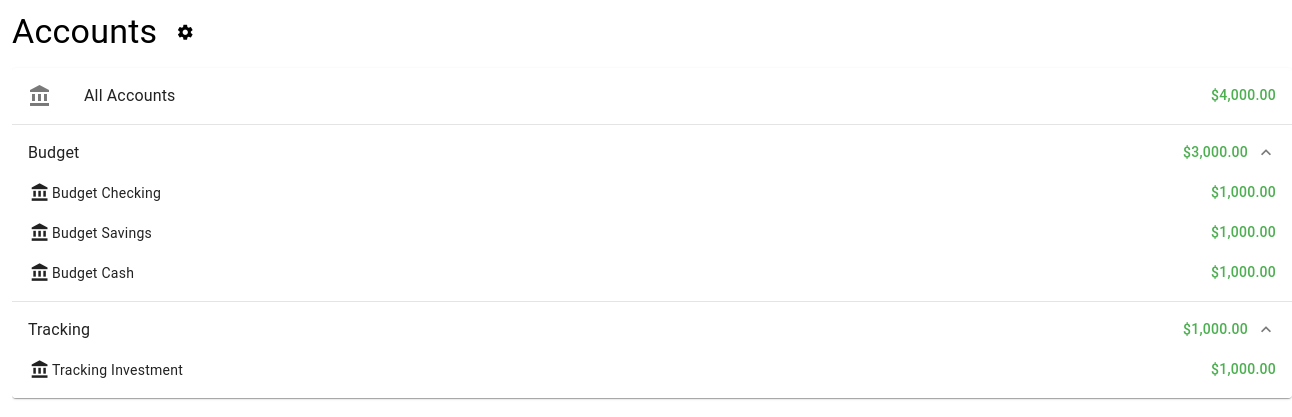
AccountsView - Edit Mode / Reordering › Account Reorder Buttons › shows reorder buttons on accounts in edit mode
Click the button with test id "accounts-settings-menu" at (185, 32), box [165, 12, 205, 52]
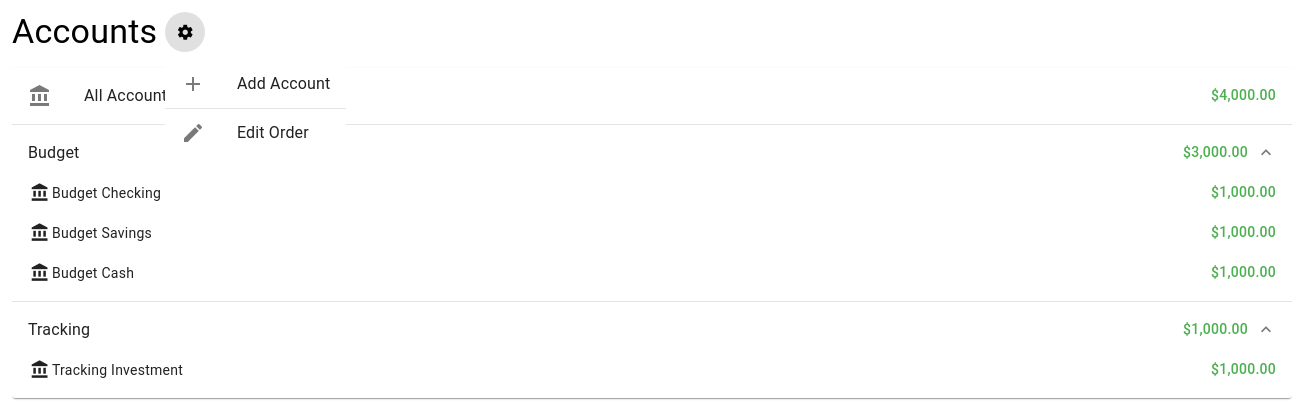
Click the list item with test id "edit-order-menu-item" at (245, 133), box [181, 121, 309, 145]
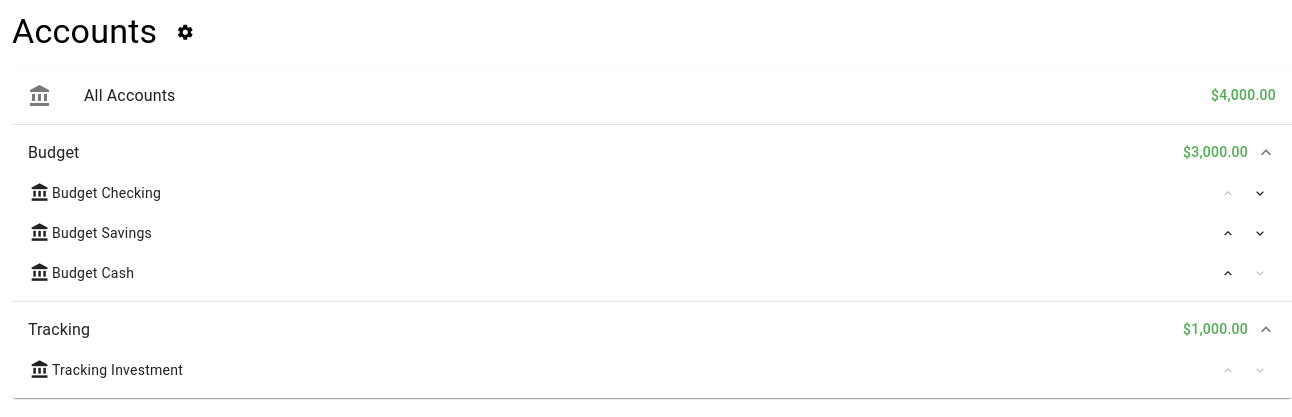
Result: the number of buttons with test id "move-up-button" is 4 at [1212, 177, 1244, 209]; [1212, 217, 1244, 249]; [1212, 257, 1244, 289]; [1212, 354, 1244, 386]
Result: the number of buttons with test id "move-down-button" is 4 at [1244, 177, 1276, 209]; [1244, 217, 1276, 249]; [1244, 257, 1276, 289]; [1244, 354, 1276, 386]
